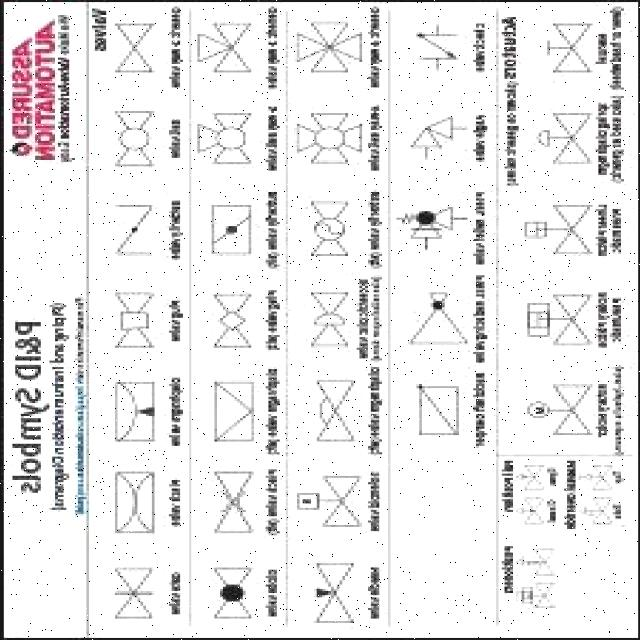3 Way Ball Valve: (193, 115, 253, 166)
3 Way Gate Valve: (192, 15, 256, 80)
4 Way Ball Valve: (290, 99, 364, 178)
4 Way Gate Valve: (292, 13, 366, 82)
Angle Valve: (404, 100, 459, 154)
Ball Valve: (108, 102, 158, 172)
Butterfly Valve: (106, 196, 160, 264)
Float Operated Valve: (512, 192, 592, 266)
Gate Valve: (108, 13, 158, 80)
Globe Valve: (200, 560, 256, 622)
Hand Operated Gate Valve: (534, 16, 595, 78)
Needle Valve: (306, 556, 358, 631), (100, 564, 160, 622)
Plug Valve: (204, 285, 258, 357), (106, 289, 164, 353)
Pneumatic-Diaphragm Gate Valve: (526, 102, 594, 176)
